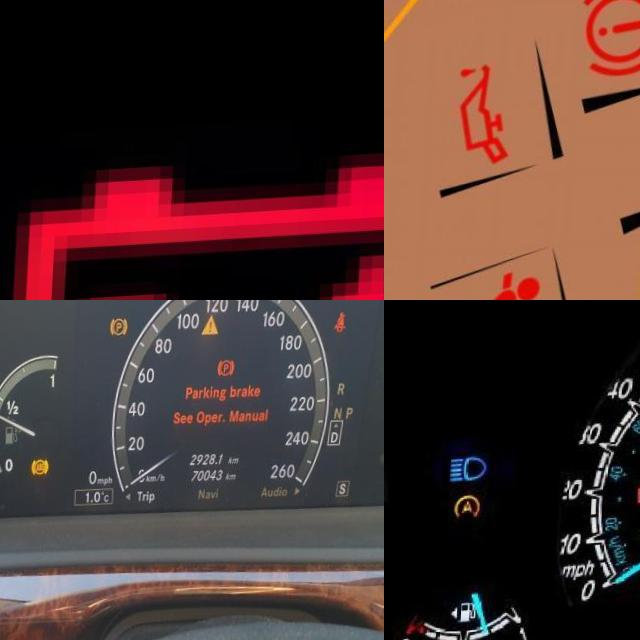Central Warning lamp: (202, 318, 221, 340)
